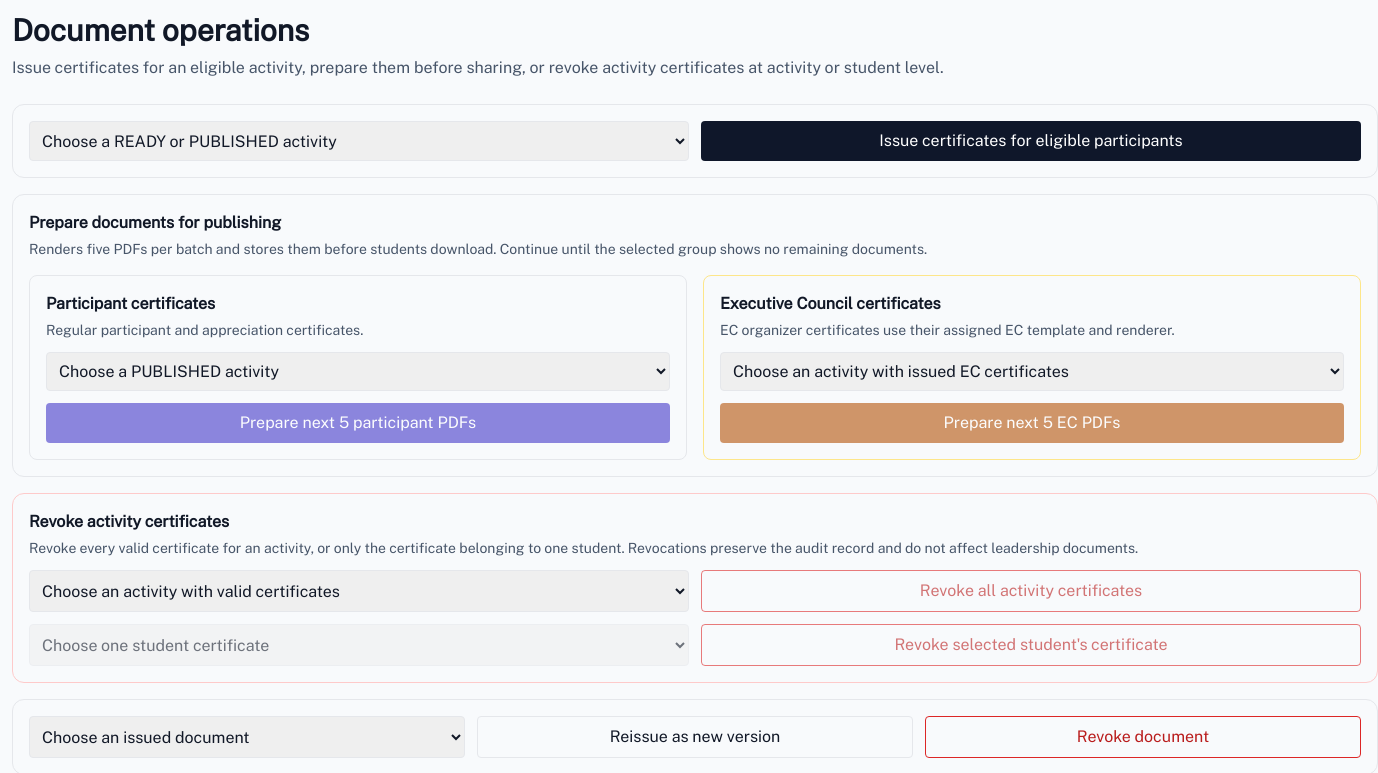
it: shows EC readiness and prepares EC PDFs through the dedicated batch endpoint
Select "Farewell · 2026-10-09 · 1/2 ready" in the dropdown named "Executive Council certificate activity" at {"x": 1032, "y": 372}, box [720, 352, 1344, 391]
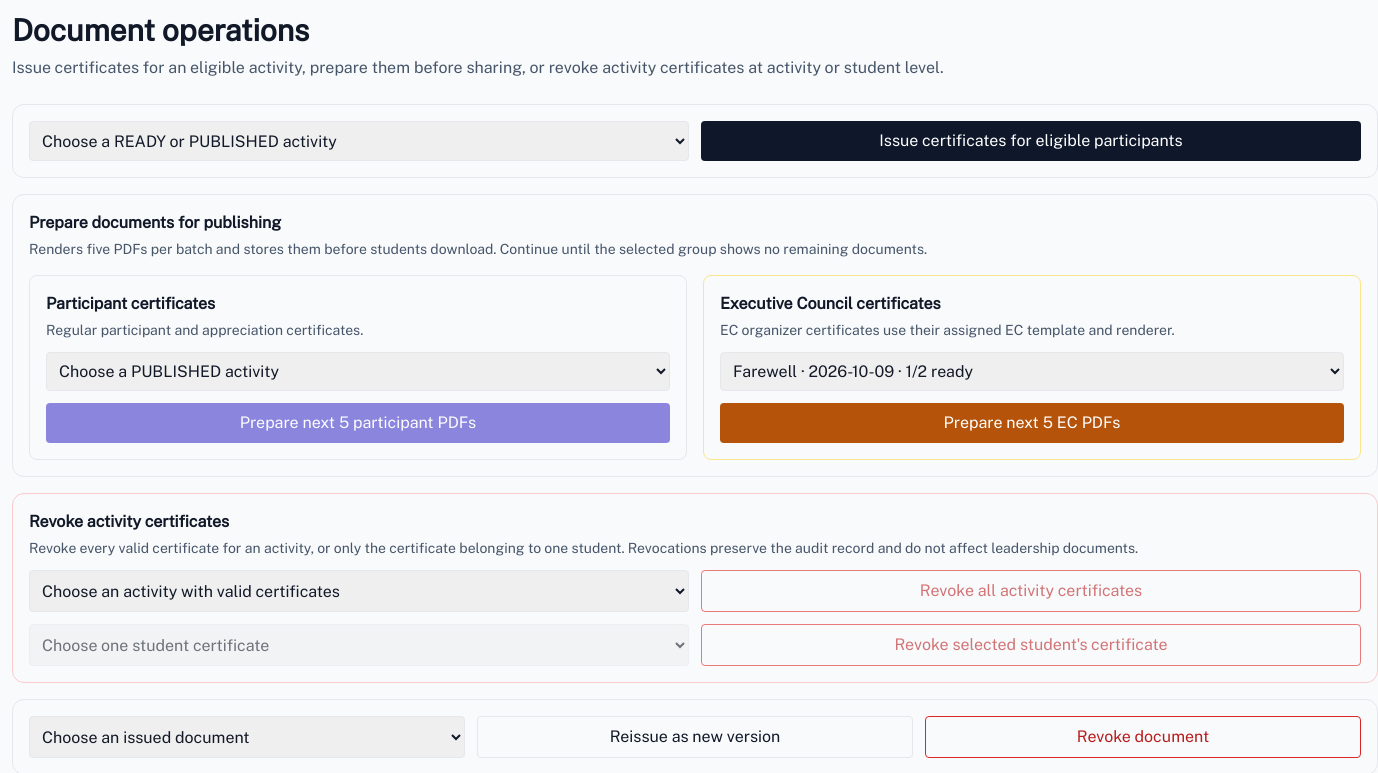
Click the button "Prepare next 5 EC PDFs" at {"x": 1032, "y": 423}, box [720, 403, 1344, 443]
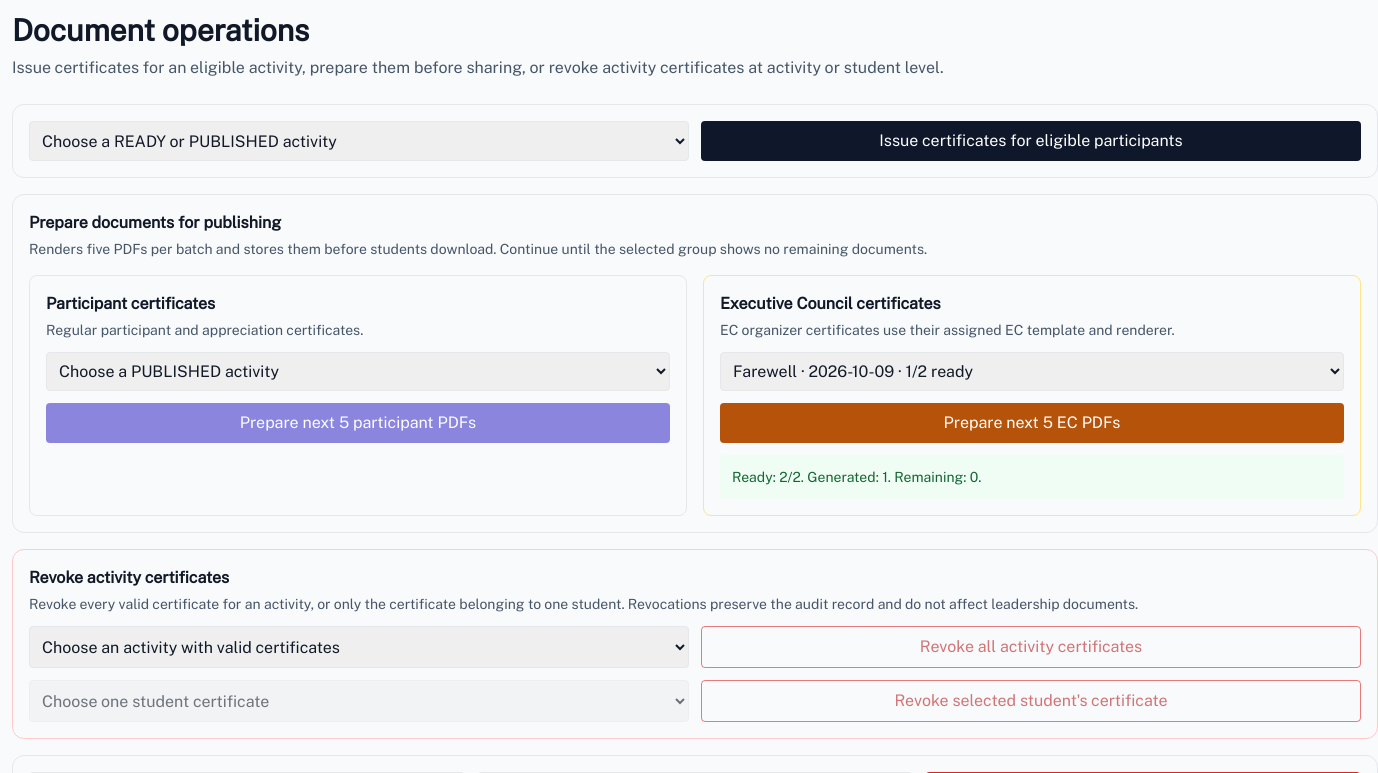
Result: the text "Ready: 2/2. Generated: 1. Remaining: 0." is shown at [720, 455, 1344, 499]
